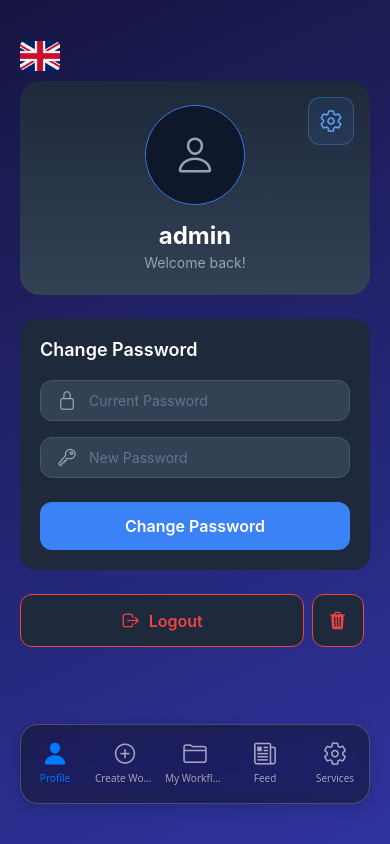
Scenario: Admin dashboard › opens Admin and shows stats and users
The image size is (390, 844).
Click the element with test id "adminButton". click: (331,121)
box: left=308, top=97, right=354, bottom=145
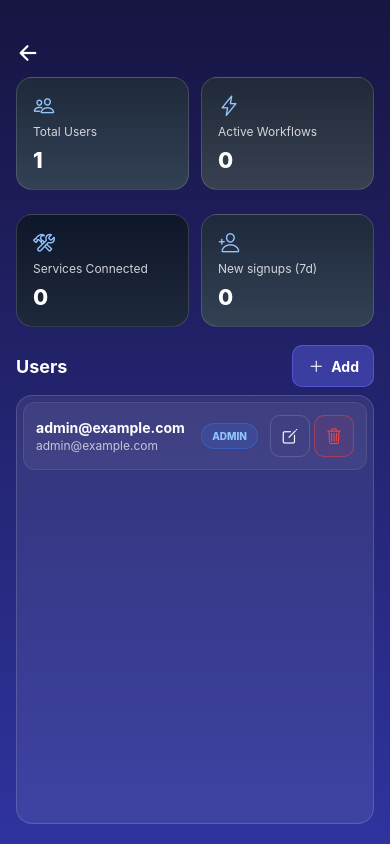
Result: the text "Users" is shown at left=33, top=124, right=97, bottom=139
Result: the 1st text "admin@example.com" is shown at left=36, top=419, right=201, bottom=436
